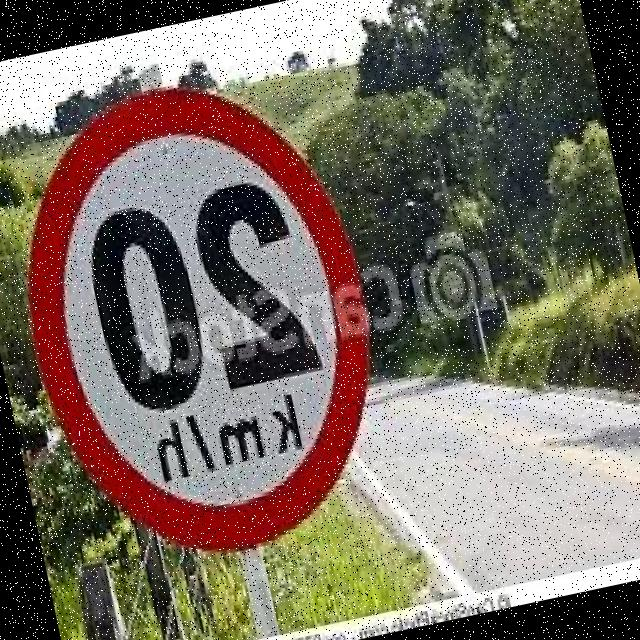speed_limit_20: (0, 45, 415, 582)
